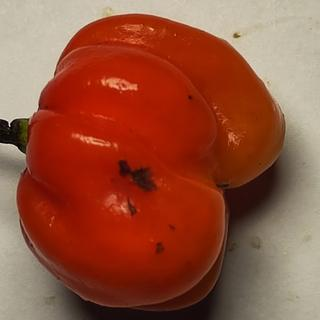Defect: (108, 155, 168, 196), (117, 193, 143, 223), (149, 236, 171, 264)
Fly-bites: (186, 92, 195, 103)
